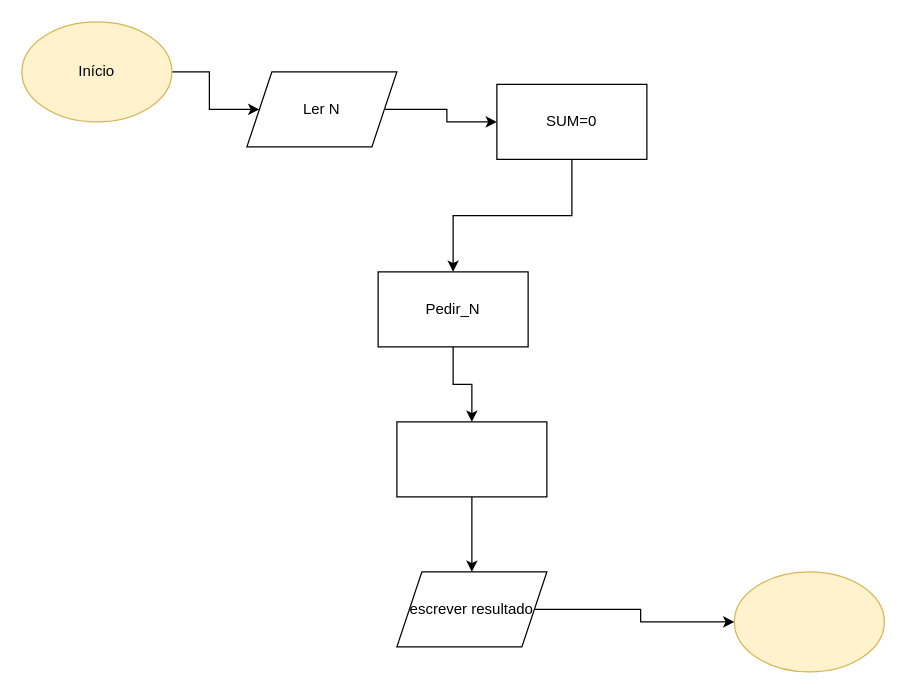
Image size: 906x694. Some labels were removed from this diagram. The box of each missing label's shape, as (x1, y1, x2, y2) in pixels:
Fim: (733, 571, 884, 672)
SUM=SUM+N: (396, 421, 547, 497)
